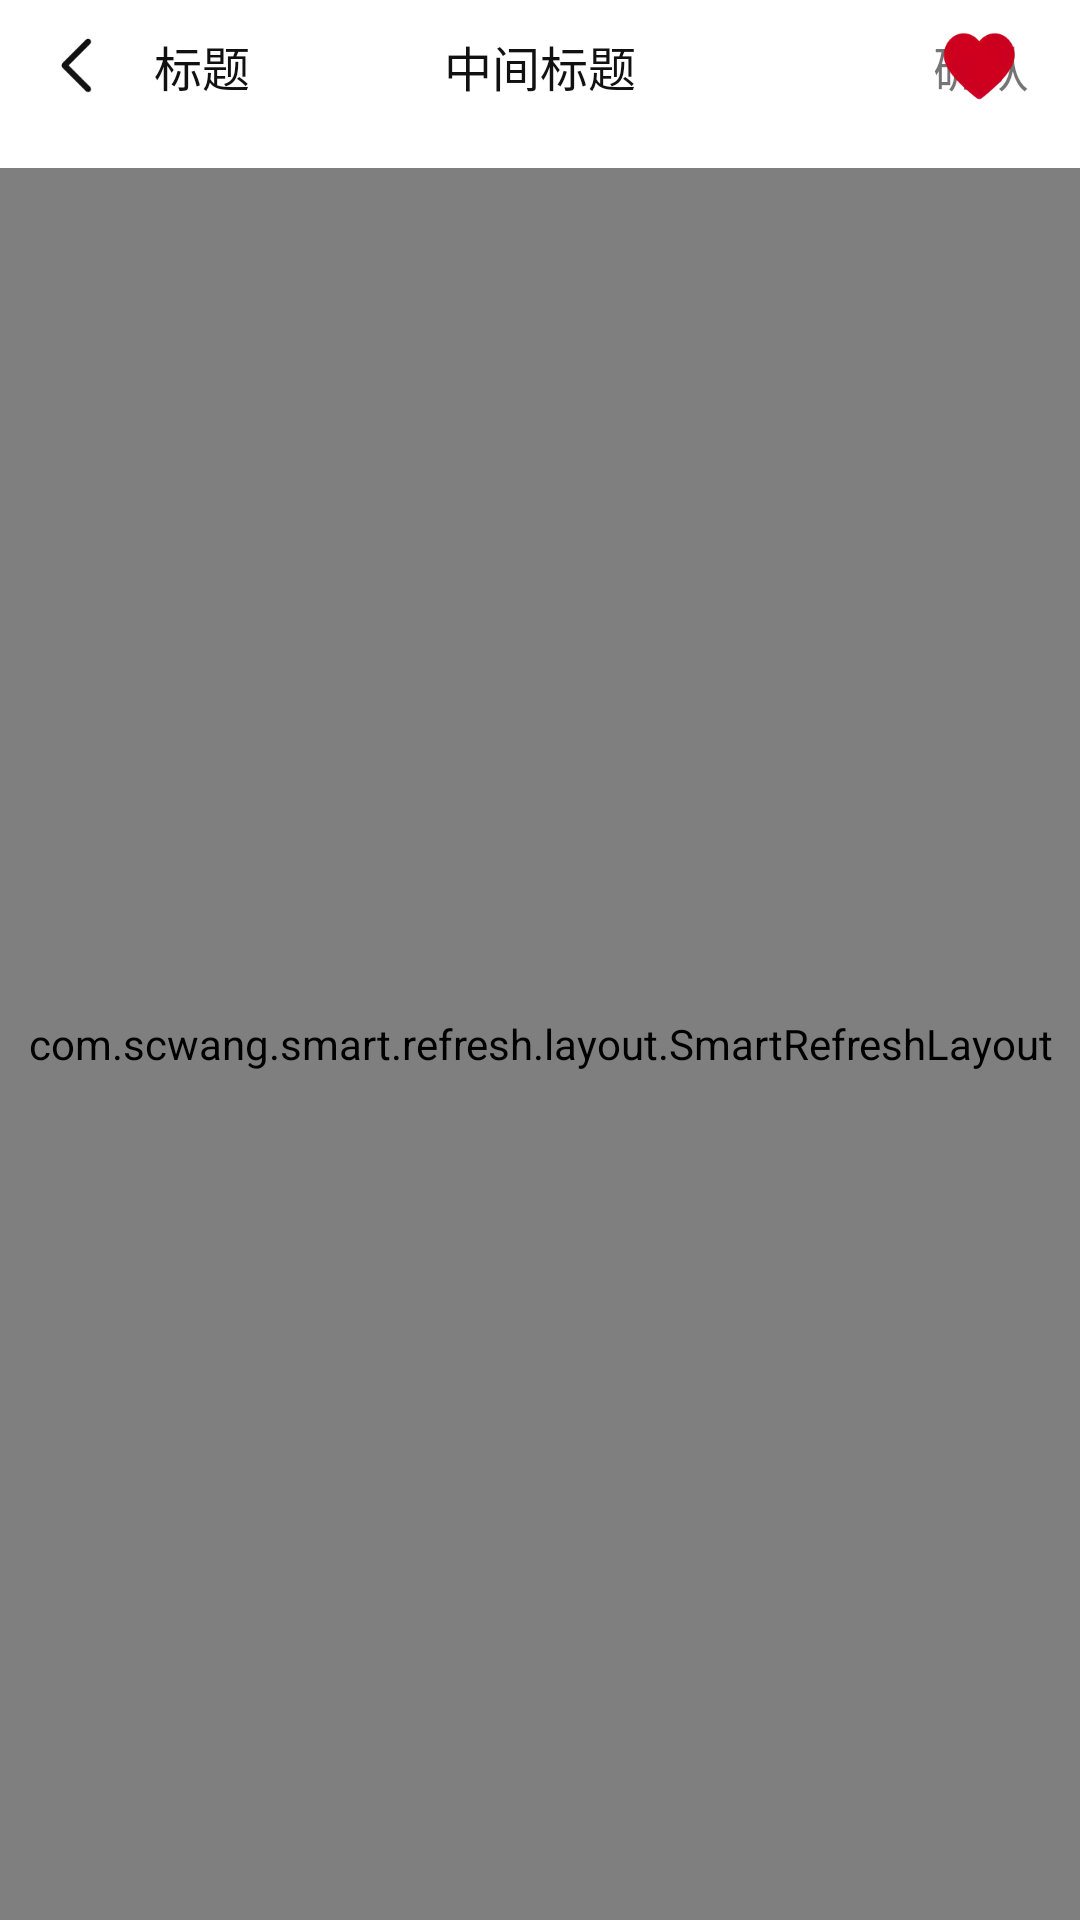

Icon click points for this 1080 × 1920 phone screenshot, format [x,y]:
back: [76,65]
